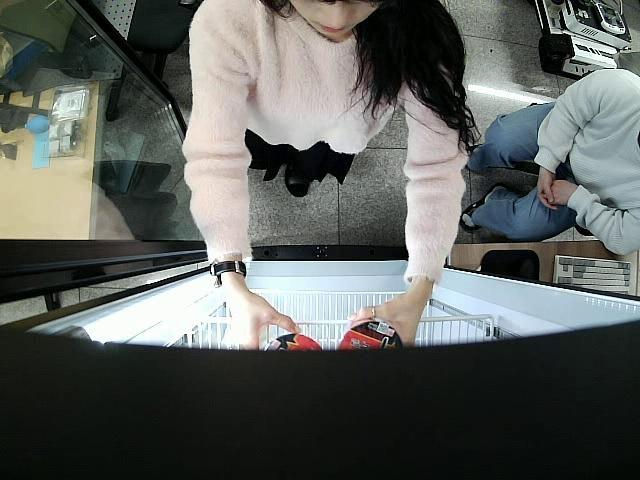02_shinRamen_S: (339, 319, 404, 352), (264, 331, 323, 354)
